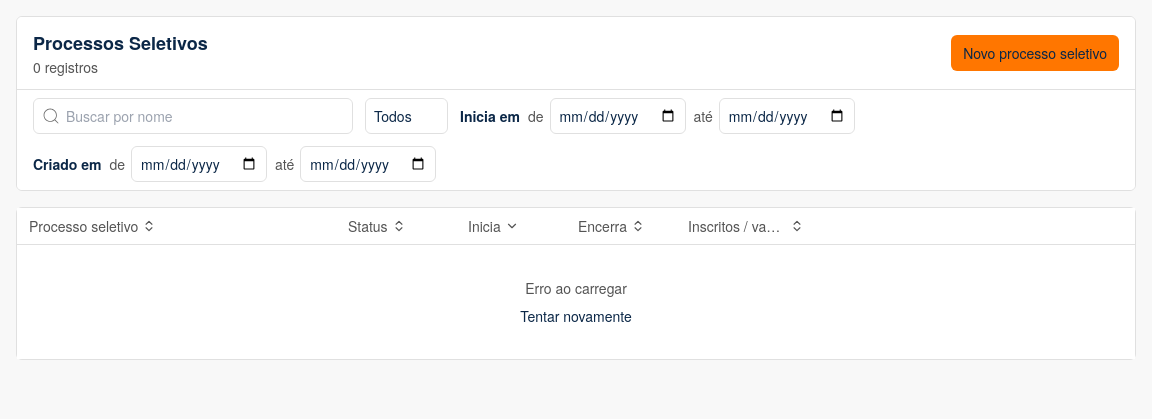
Test case: Processos Seletivos na Dash V2 (tickets/021 card 04) › ⚠️ erro de busca: estado de erro com 'tentar de novo' — não o spinner eterno
This screenshot has width=1152, height=419.
expect the text "Erro ao carregar" is shown: met, box x1=525 y1=278 x2=627 y2=298
What coordinates should you click on to do the following:
click the button "Tentar novamente"
I would click on:
 (576, 316)
Its box is x1=520 y1=306 x2=632 y2=326.
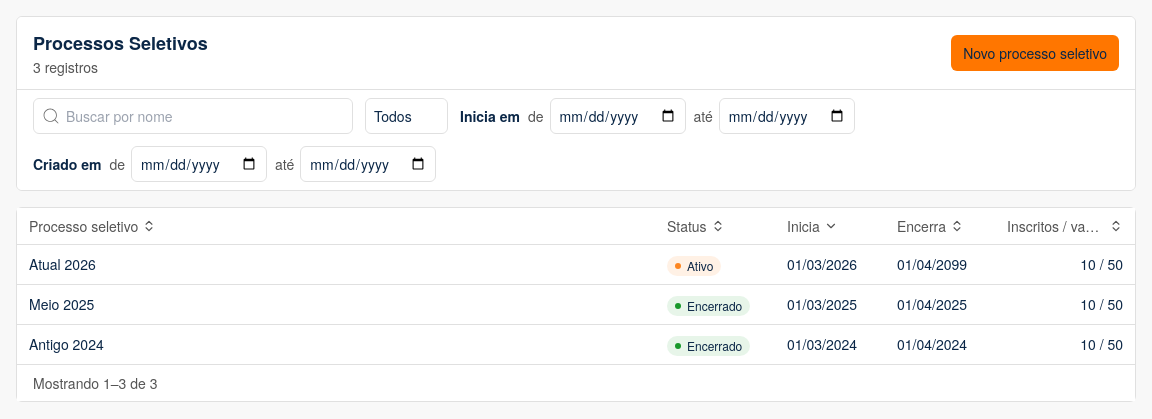
expect the text "Atual 2026" is shown: met, box x1=29 y1=254 x2=96 y2=274
